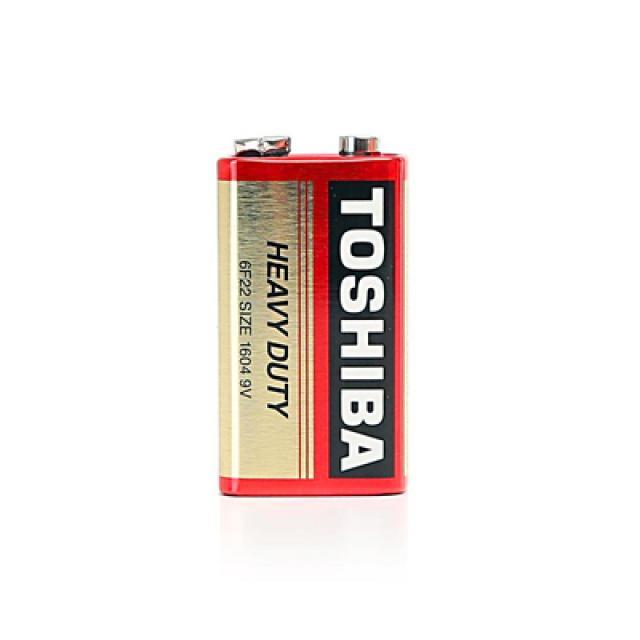Hazard: (190, 125, 428, 504)
